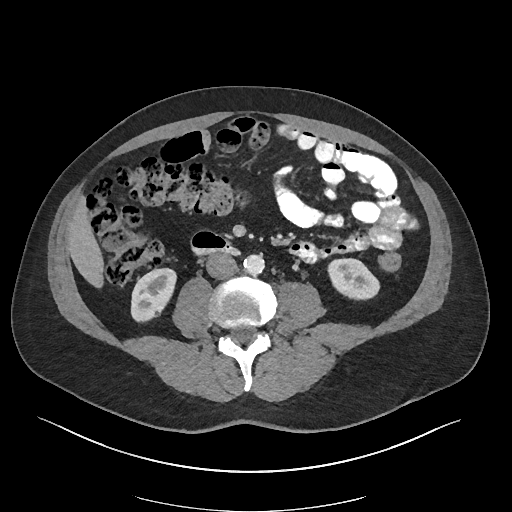Lesion: (152, 309, 161, 318)
